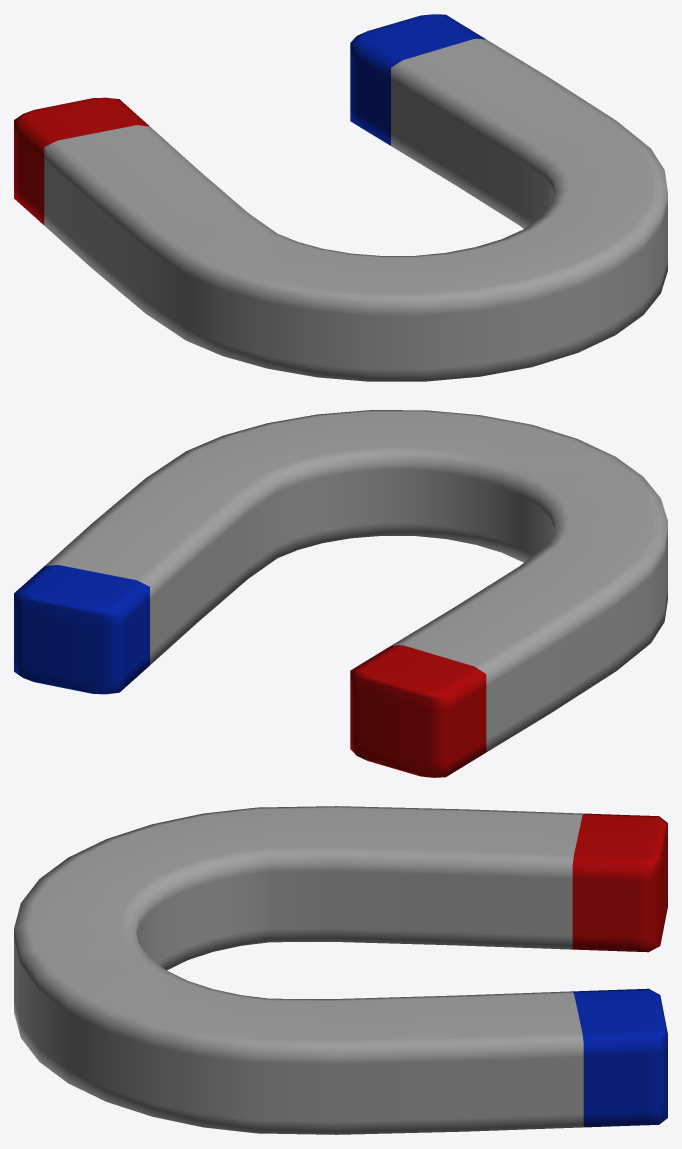
The model's file is U_Magnet.fbx.
3 views of the same model, one above another, from view 1: azimuth 30°, elevation 25°; view 2: azimuth 150°, elevation 25°; view 3: azimuth 270°, elevation 25° (orthographic). The views are drawn at different scales.
Visible parts, largest first — view 1: pCube6; view 2: pCube6; view 3: pCube6.
Boxes of the visible parts, left/top/right/bottom form: pCube6: left=14, top=14, right=667, bottom=381; pCube6: left=14, top=410, right=667, bottom=777; pCube6: left=14, top=806, right=667, bottom=1134.
Bounding box in the file's own units: 25.72 × 4.53 × 29.01.
